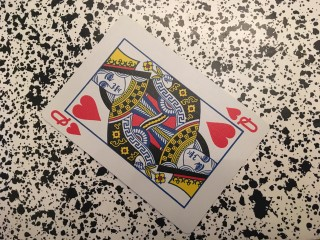QueenOfHearts: (41, 15, 271, 234)
